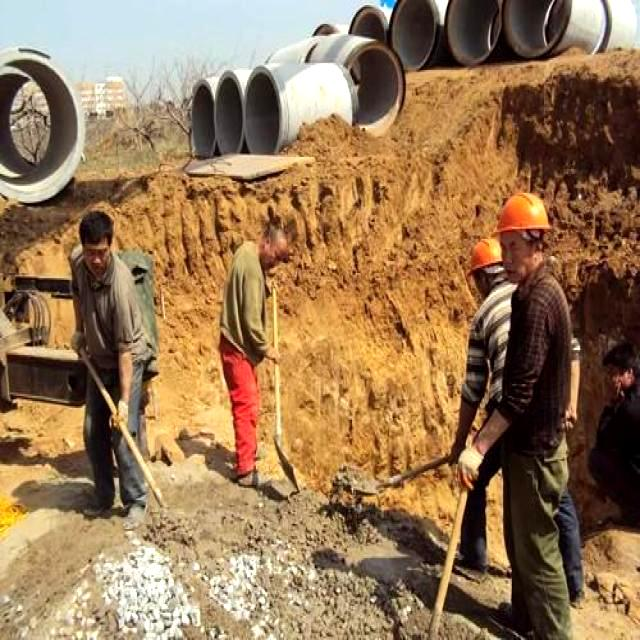hard_hat: (497, 191, 550, 236), (468, 237, 503, 275)
no_head_wear: (77, 210, 114, 246), (262, 210, 289, 259), (602, 340, 639, 374)
person: (497, 191, 576, 638), (69, 210, 154, 444), (219, 217, 288, 485), (589, 341, 639, 522), (461, 239, 513, 413)
